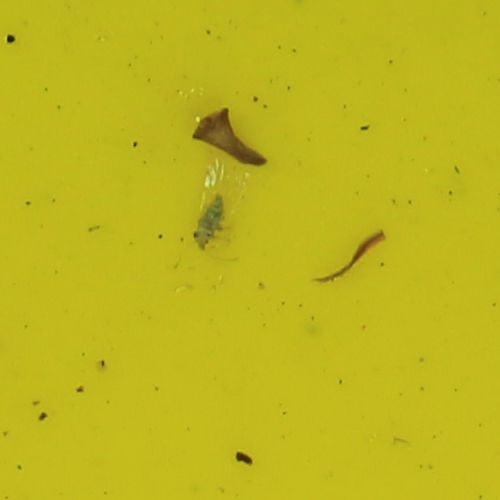psylla: (190, 192, 228, 252)
